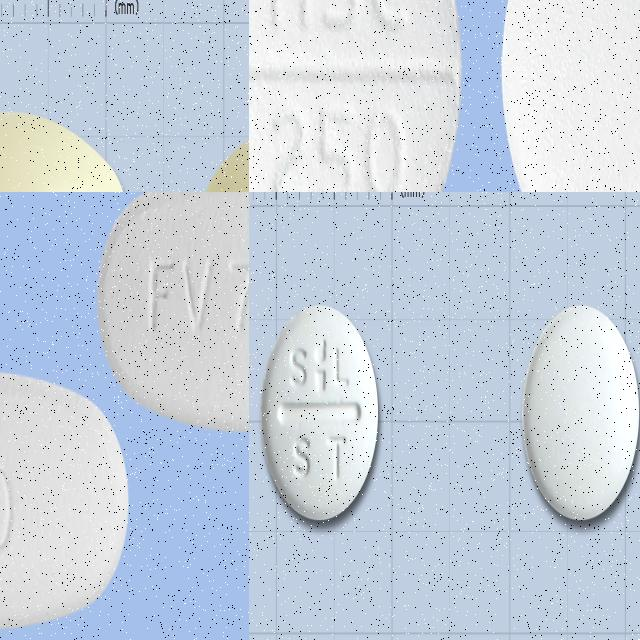Famvir -750mg: (97, 192, 249, 432), (0, 367, 130, 632)
ONG Vaginal Soft Cap: (0, 110, 129, 192)
Proxacinby Tab: (249, 0, 461, 192), (502, 0, 640, 192)
Shuclari Tab: (261, 304, 380, 521), (521, 302, 640, 519)
